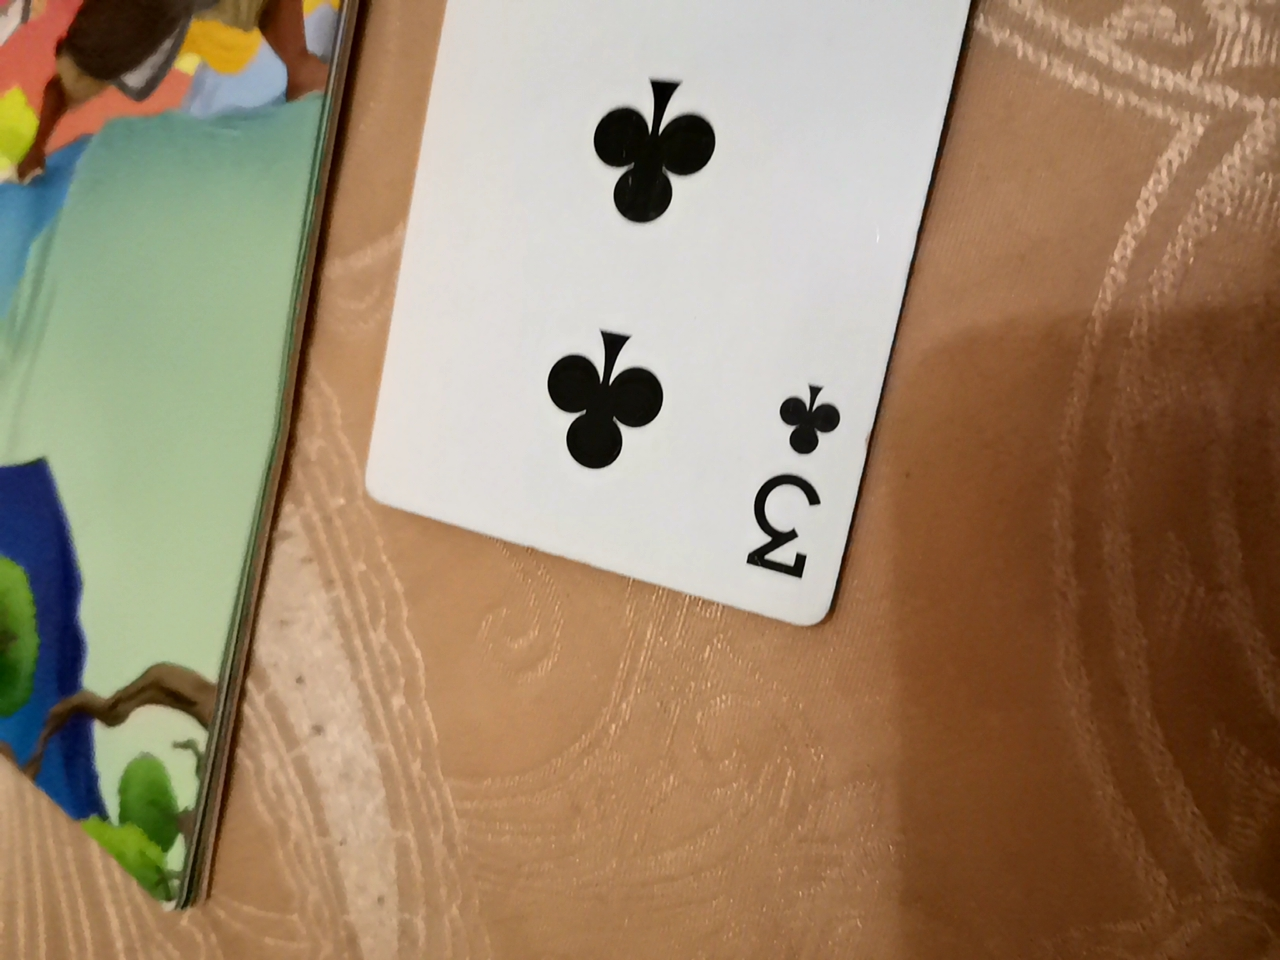mh 3: (340, 6, 995, 690)
